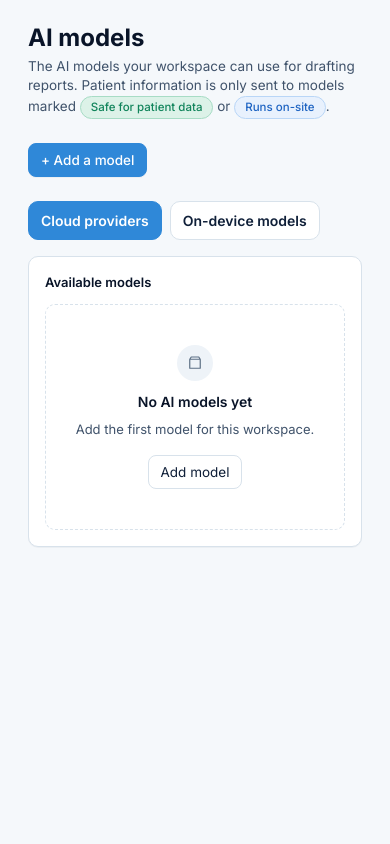
Test case: providers page › renders an empty state with a retryable add action
Expected: the text "No AI models yet" is shown, [138,393,252,412]
Click the button "Add model".
click(195, 472)  # box [148,455,242,489]
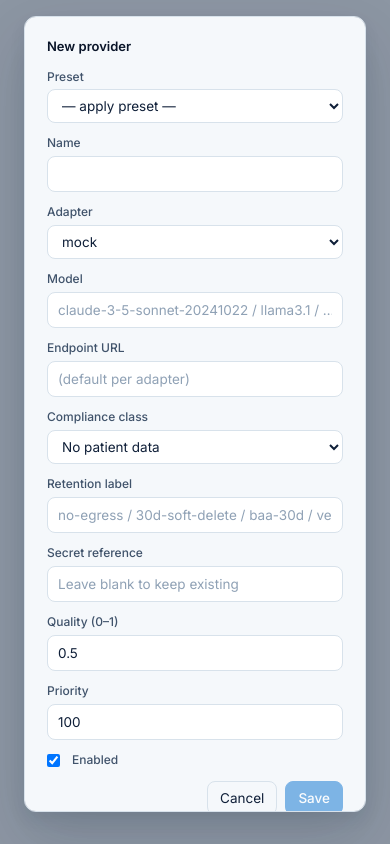
Now the text "New provider" is shown, box [47,38,131,54]
